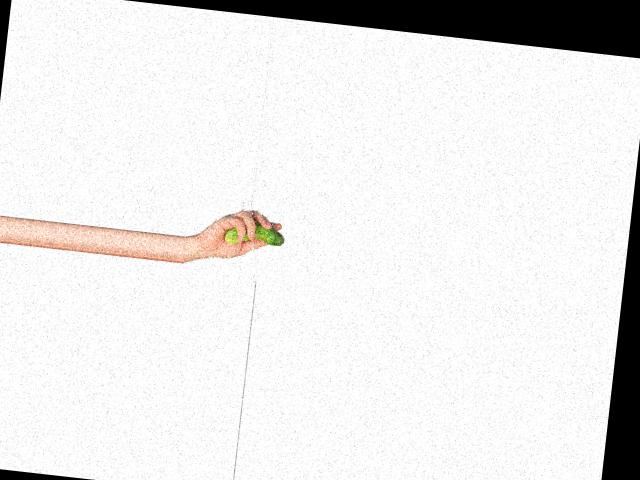cucumber: (224, 220, 285, 248)
